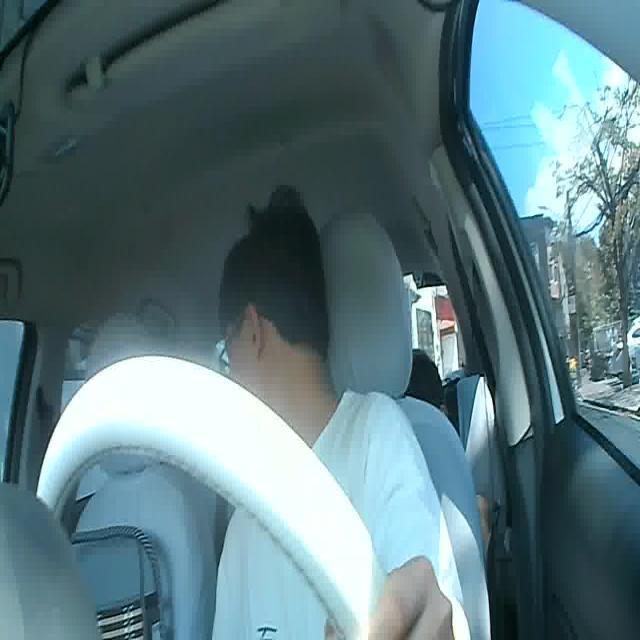Inattentive: (218, 184, 333, 413)
